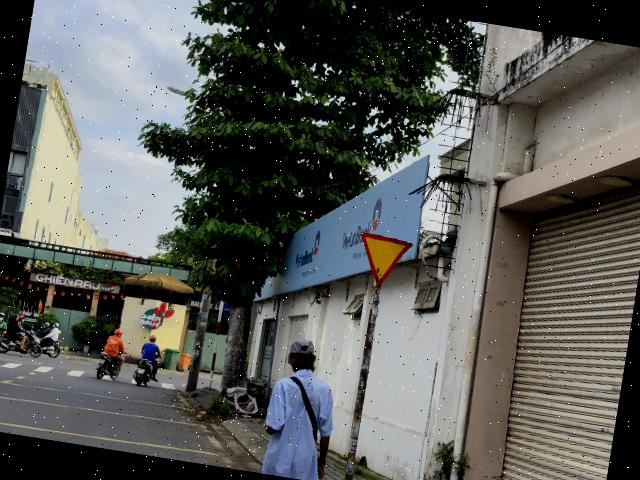giao-nhau-voi-duong-uu-tien: (353, 231, 413, 289)
